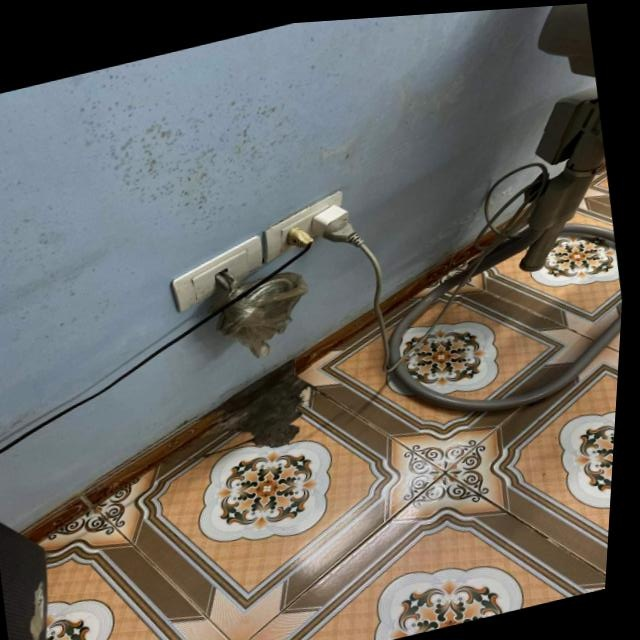outlet: (166, 233, 273, 314), (257, 188, 355, 264)
